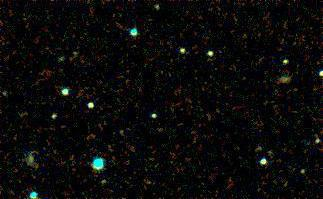star: (267, 42, 297, 72)
